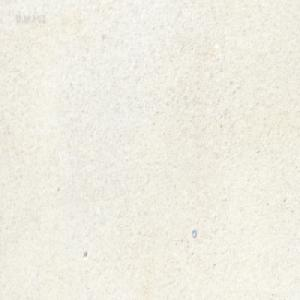Washer: (192, 229, 197, 238)
